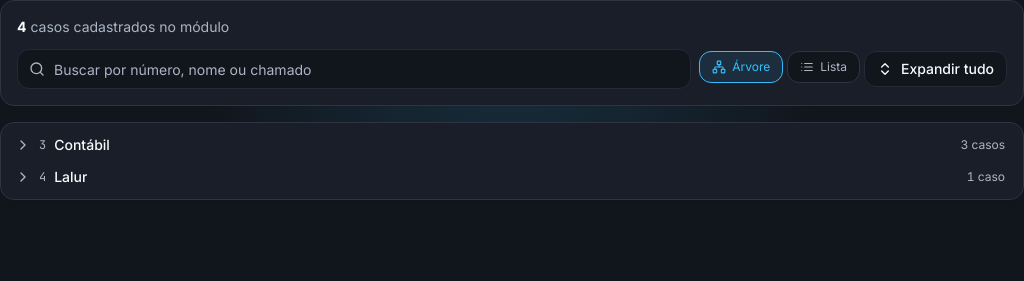
Scenario: Casos de teste (lista do modulo) › um codigo por pasta no primeiro nivel ([3] Contabil, [4] Lalur), grupos em ordem numerica, com a contagem de casos
Check: the text "4" is shown 2 times, box x1=17 y1=18 x2=26 y2=35; x1=39 y1=169 x2=46 y2=185
Click the button "3 Contábil 3 casos" at (82, 144), box x1=7 y1=129 x2=1017 y2=161
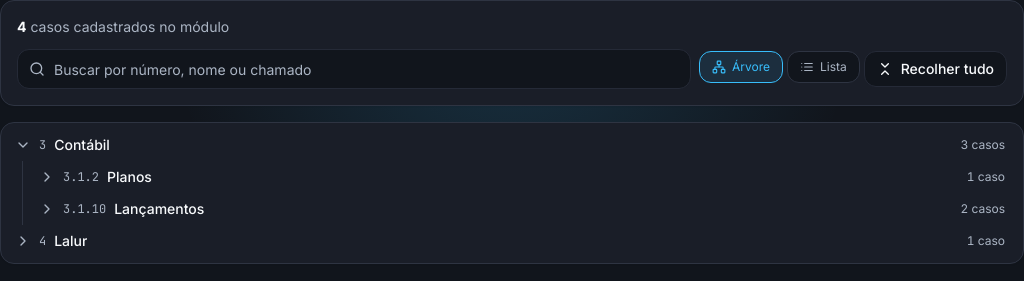
Check: the button "3.1.10 Lançamentos 2 casos" is shown, box x1=31 y1=193 x2=1017 y2=225
